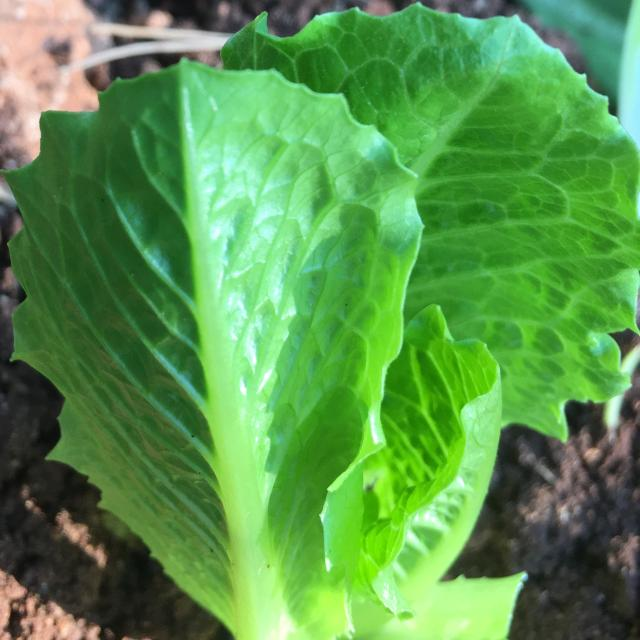Healthy Lettuce: (4, 7, 636, 635), (221, 4, 638, 441)
